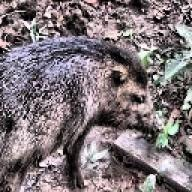boar: (0, 33, 158, 192)
